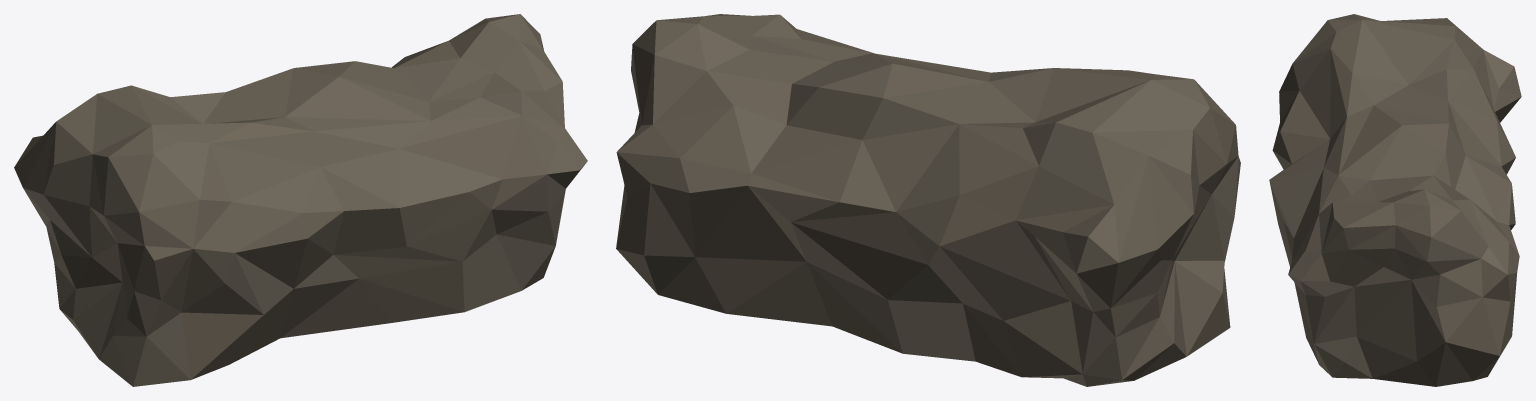
The model's file is LargeRock_1.fbx.
3 renders of one model, left to right at view 1: azimuth 30°, elevation 25°; view 2: azimuth 150°, elevation 25°; view 3: azimuth 270°, elevation 25°, orthographic. The views are drawn at different scales.
Parts seen in each view (by area): view 1: LargeRock_1; view 2: LargeRock_1; view 3: LargeRock_1.
Boxes of the visible parts, left/top/right/bottom form: LargeRock_1: left=14, top=14, right=587, bottom=386; LargeRock_1: left=616, top=14, right=1240, bottom=386; LargeRock_1: left=1269, top=14, right=1521, bottom=386.
Bounding box in the file's own units: 297 × 130 × 149.
